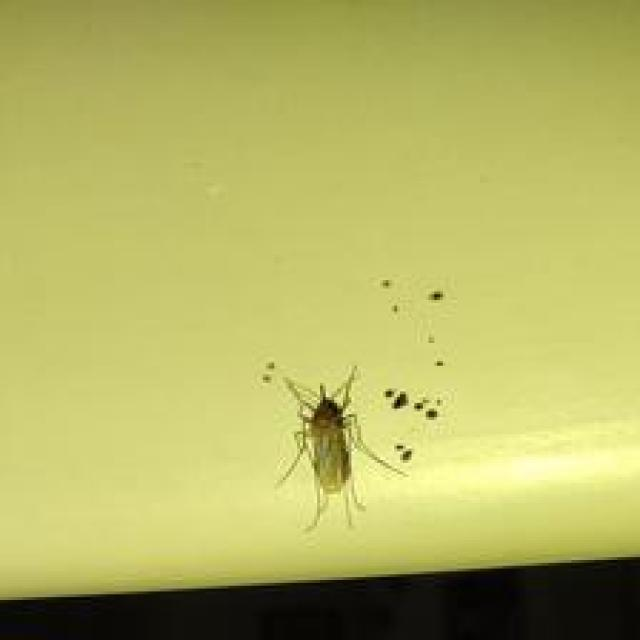Culex: (261, 358, 410, 533)
